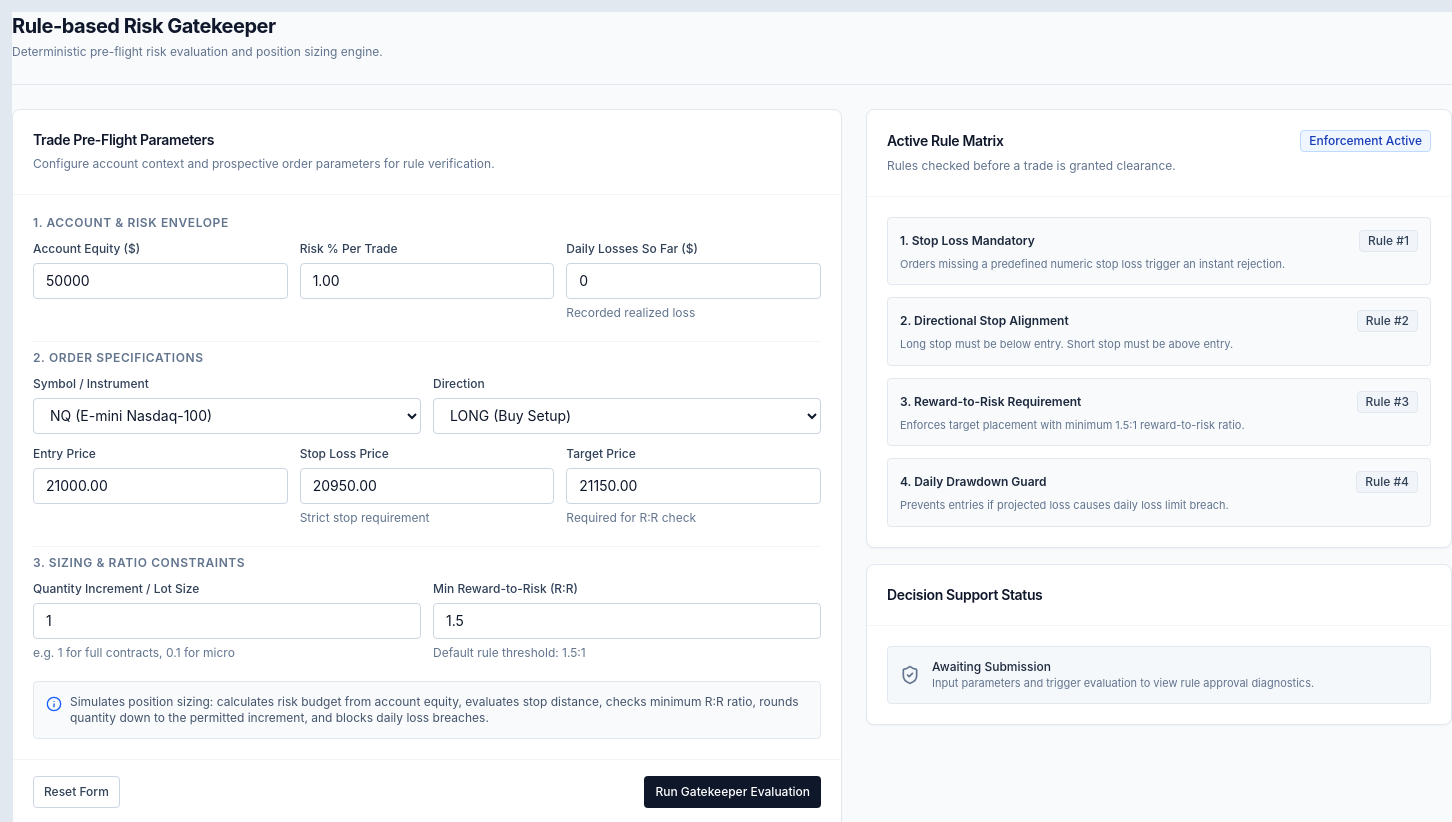
Test: TradePilot User Journey & Usability Flows › Journey 2: Evaluate trade in Gatekeeper and save approved trade to journal
The image size is (1452, 822).
Run evaluation
Click the button "Run Gatekeeper Evaluation" at (733, 792), box [644, 776, 821, 808]
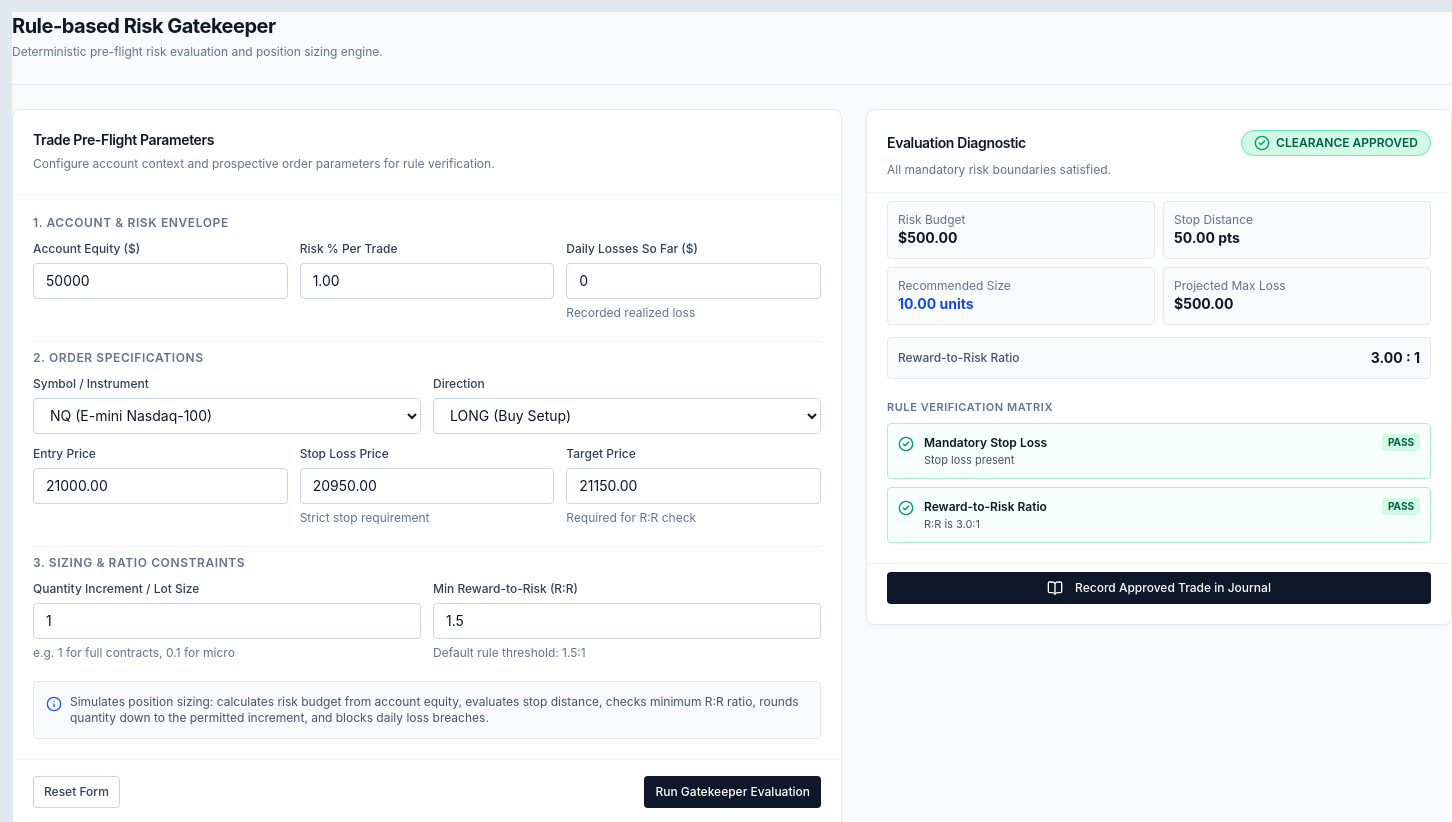
Expected: the text "CLEARANCE APPROVED" is shown, [1241, 130, 1431, 156]
Expected: the text "Recommended Size" is shown, [898, 278, 1011, 292]
Save approved trade
Click the button "Record Approved Trade in Journal" at (1159, 588), box [887, 572, 1431, 604]
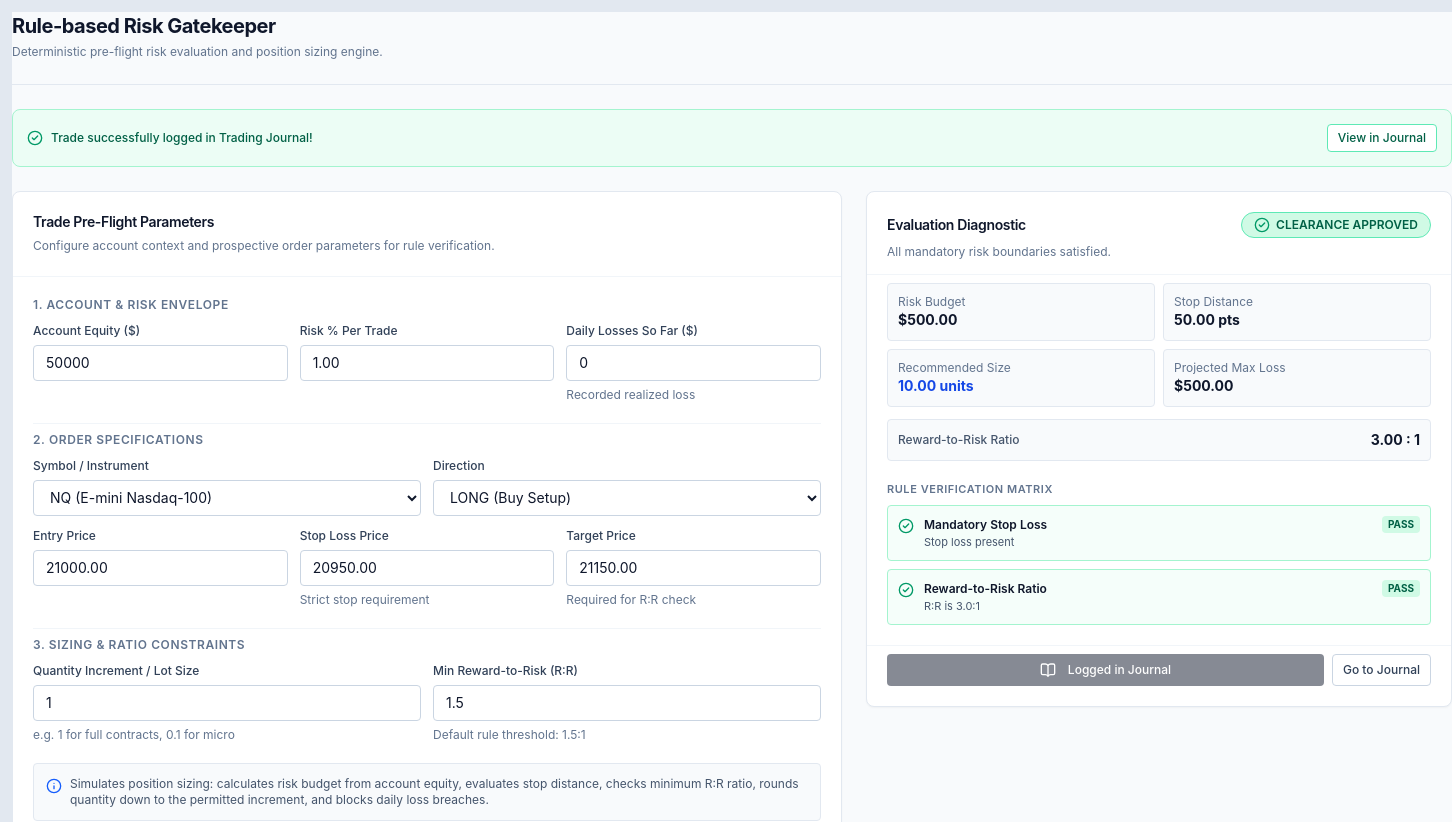
Expected: the text "Trade successfully logged in Trading Journal!" is shown, [51, 130, 313, 146]
Expected: the button "View in Journal" is shown, [1327, 124, 1437, 152]
